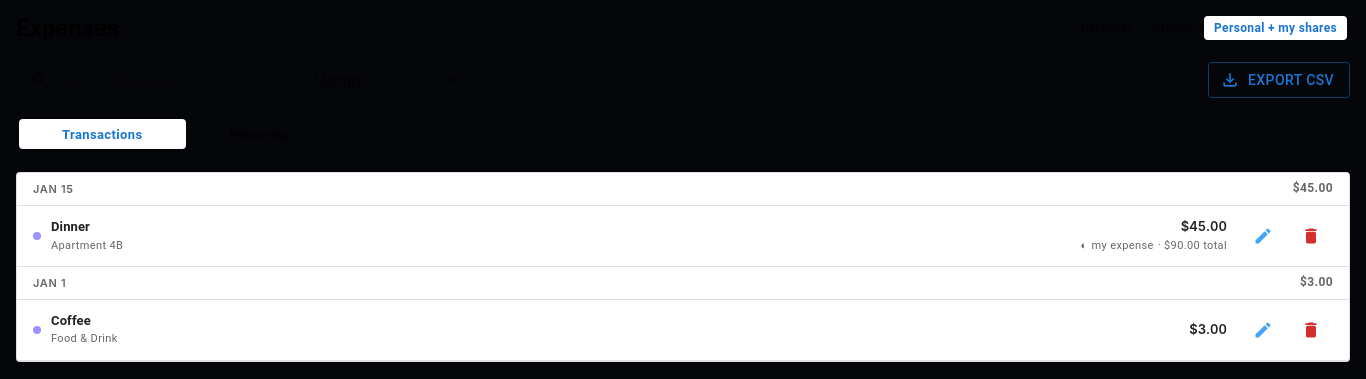
Test: scope filter switches the queried data and shows the group badge column
This screenshot has width=1366, height=379.
expect the text "Coffee" is shown: met, box [51, 313, 91, 328]
What coordinates should you click on to do the following:
click the button "Groups"
I would click on:
 (1173, 28)
Its box is [1142, 16, 1203, 40].
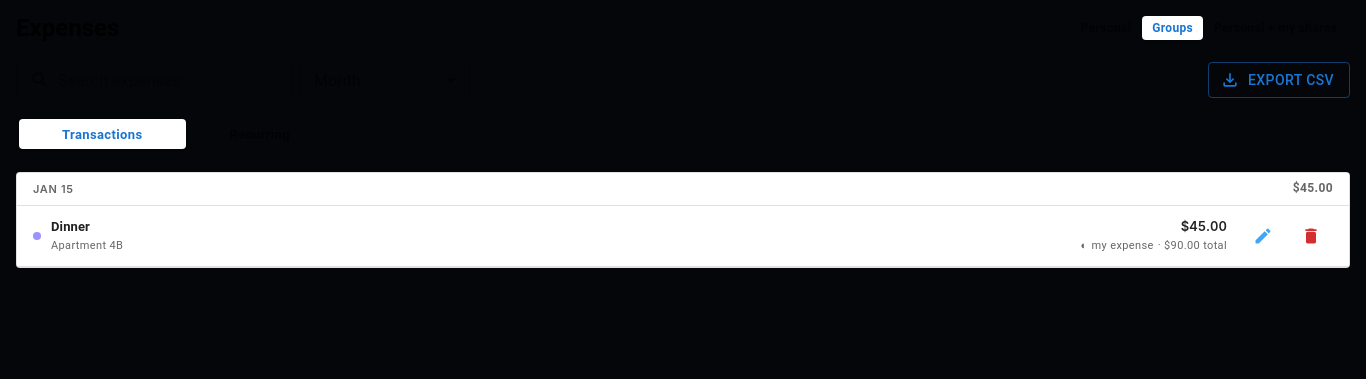
expect the text "Dinner" is shown: met, box [51, 219, 90, 234]
expect the button "Coffee" is gone: met
